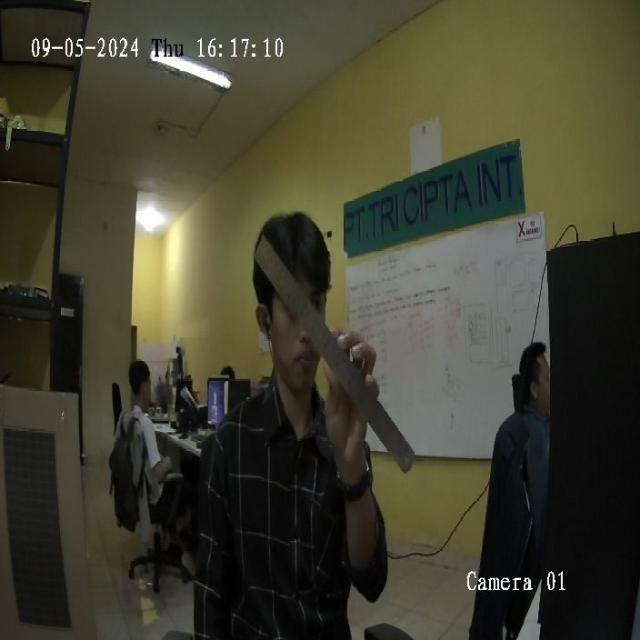Ruler: (255, 230, 415, 470)
